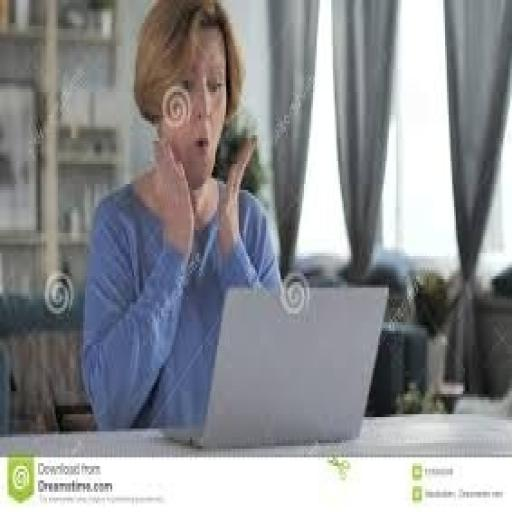using_laptop: (159, 279, 389, 449)
